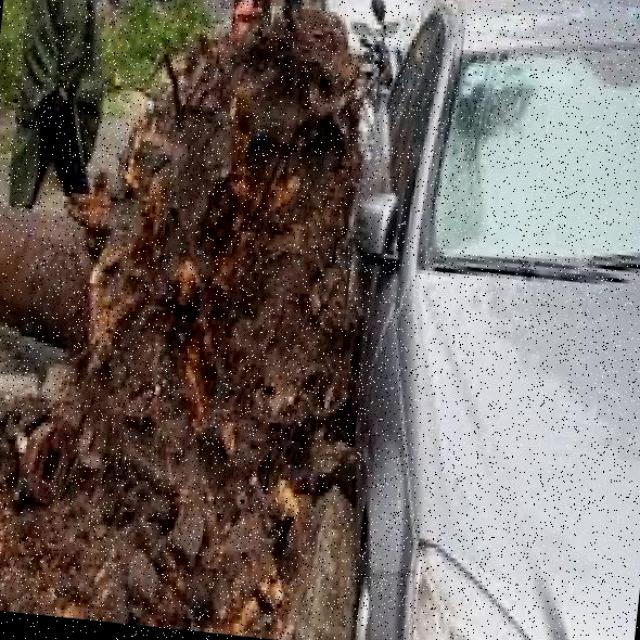fallen_object: (0, 0, 434, 474)
